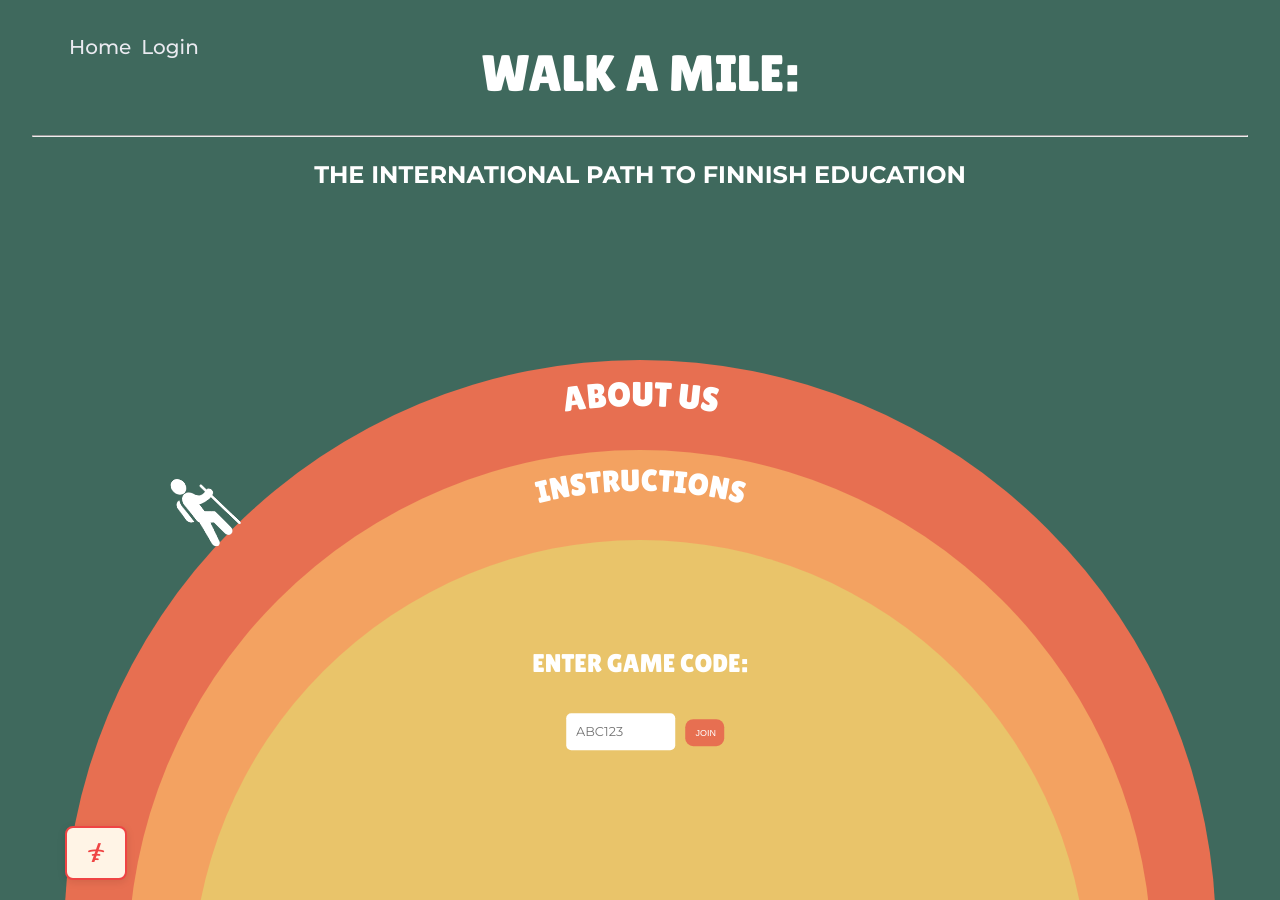
Test: App › clicking login button renders login page
Click the link "Login": (170, 47) x1=136 y1=30 x2=204 y2=64
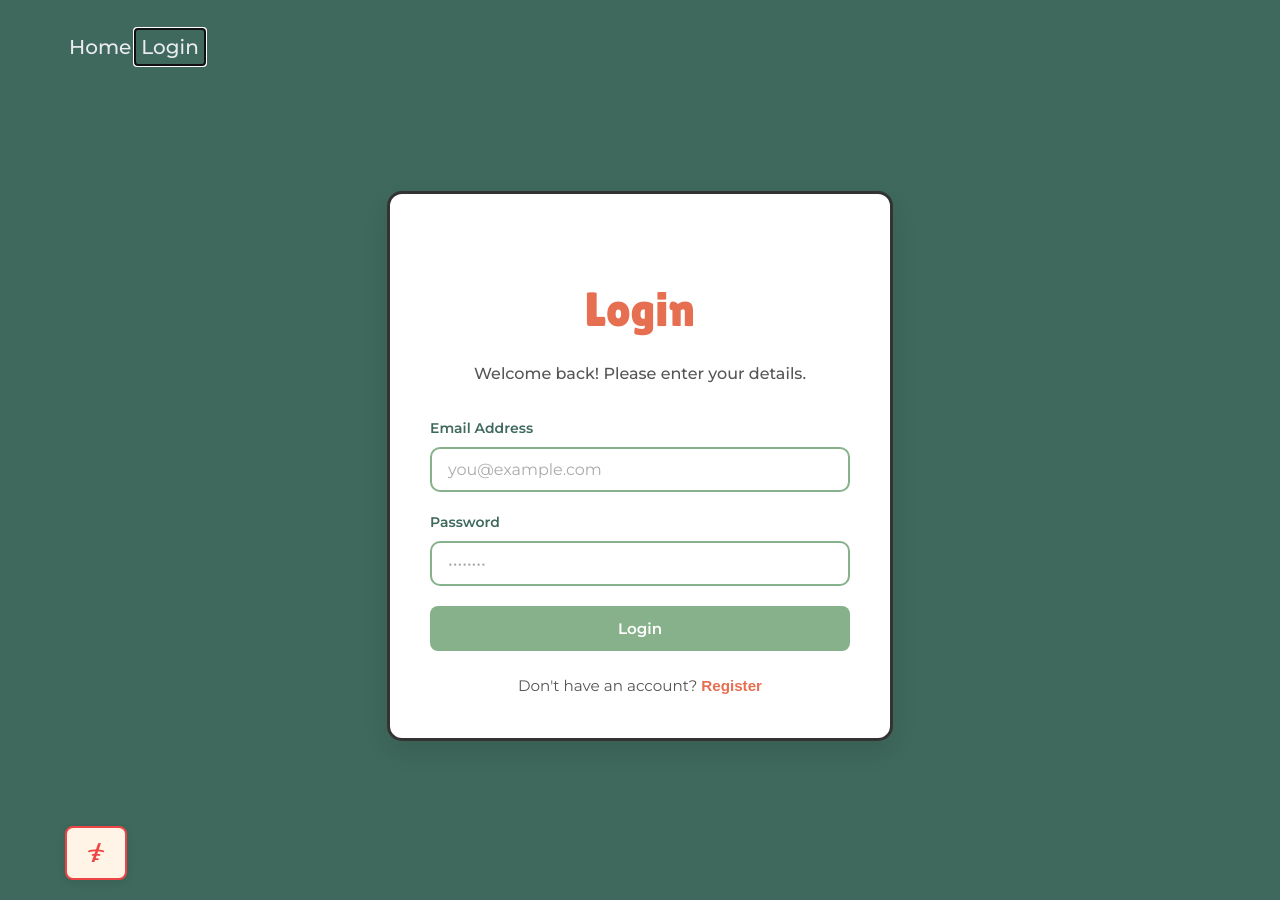
Expected: the text "Email Address" is shown, x1=430 y1=419 x2=533 y2=437
